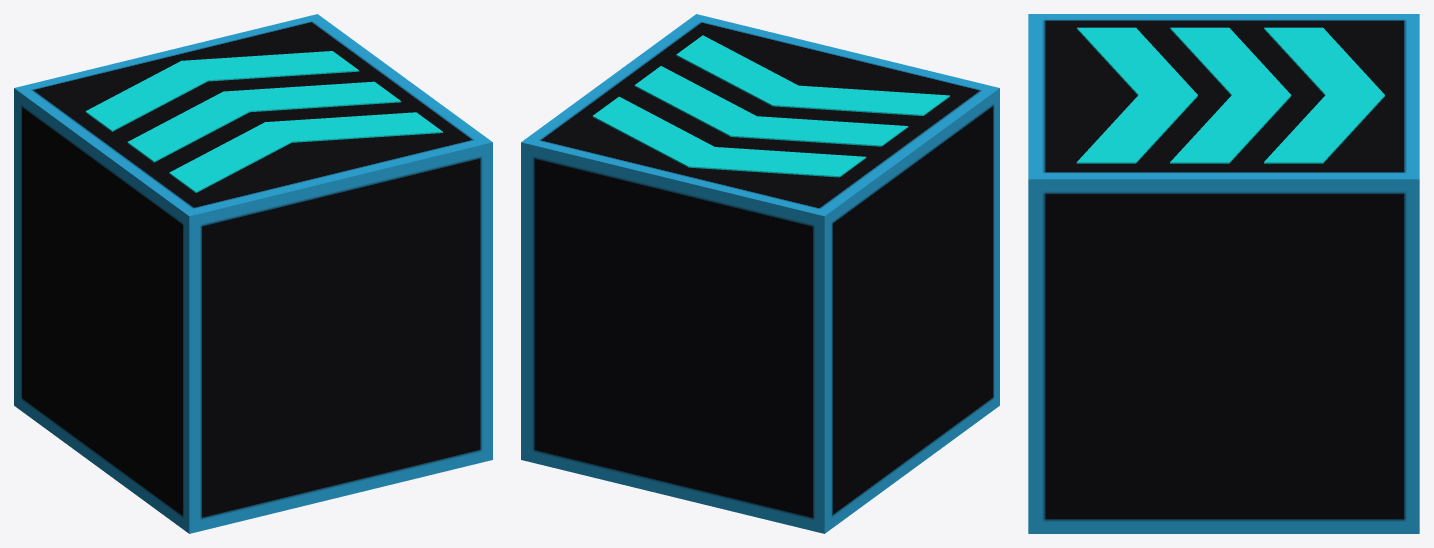
The model's file is ArrowBox.fbx.
3 renders of one model, left to right at view 1: azimuth 30°, elevation 25°; view 2: azimuth 150°, elevation 25°; view 3: azimuth 270°, elevation 25°, orthographic. The views are drawn at different scales.
Visible parts, largest first — view 1: Cube.002, Plane.004; view 2: Cube.002, Plane.004; view 3: Cube.002, Plane.004.
Part boxes in pixels (x1,y1,x2,y2): Cube.002: (14,14,492,533); Plane.004: (85,51,442,192); Cube.002: (521,14,999,533); Plane.004: (592,35,949,177); Cube.002: (1028,14,1419,533); Plane.004: (1076,27,1384,163).
Bounding box in the file's own units: 200 × 201 × 200.
